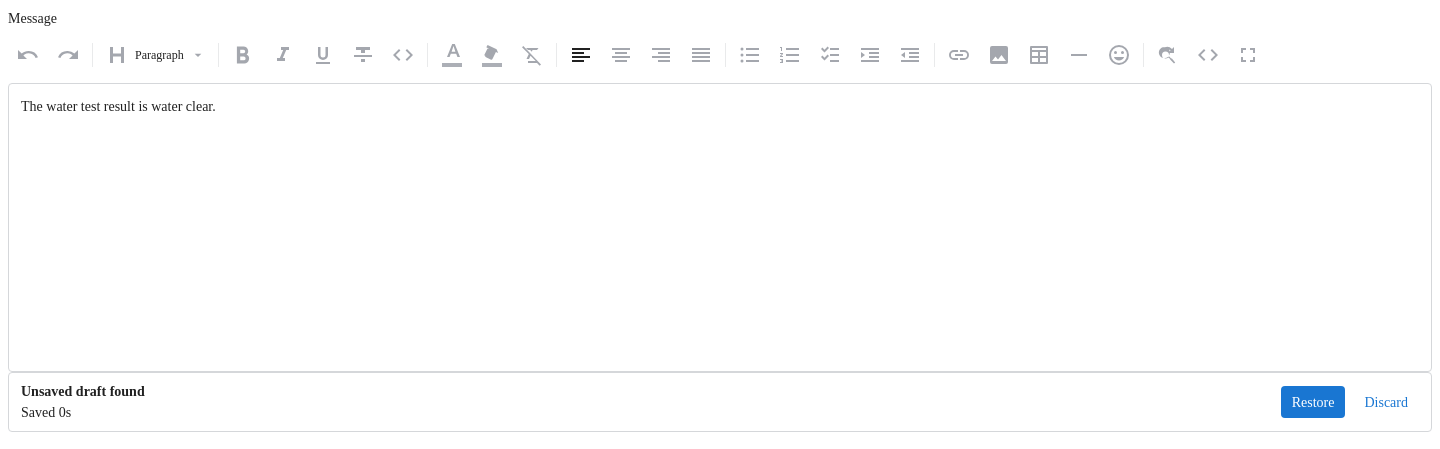
Test: drafts › discards one on request, and never asks again
Click the button "Discard".
click(1386, 402)  # box [1354,386,1419,418]
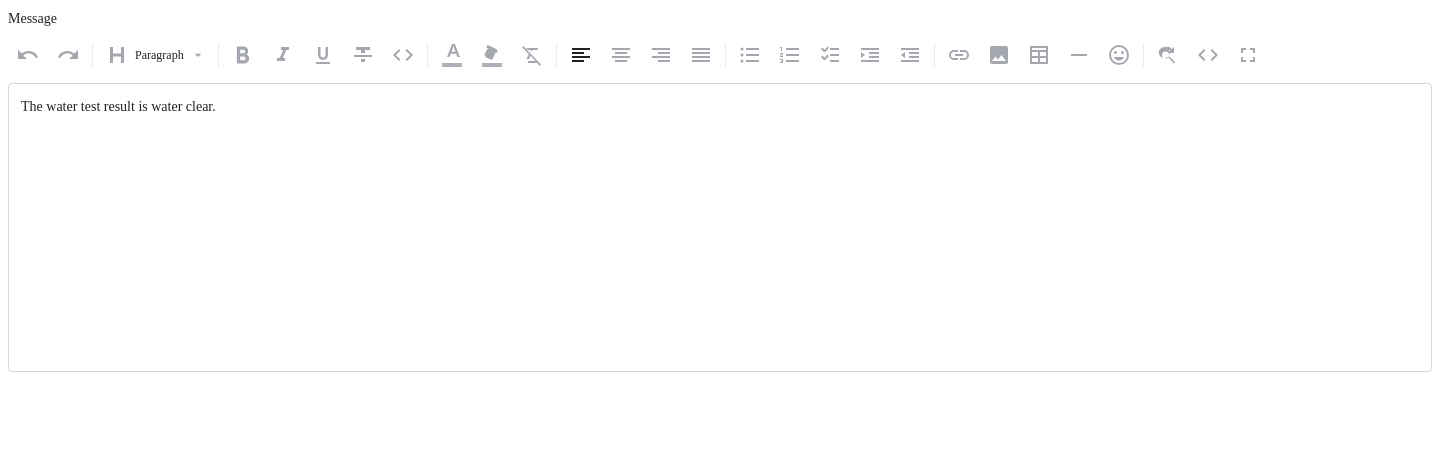
Result: the button "Restore" is gone
